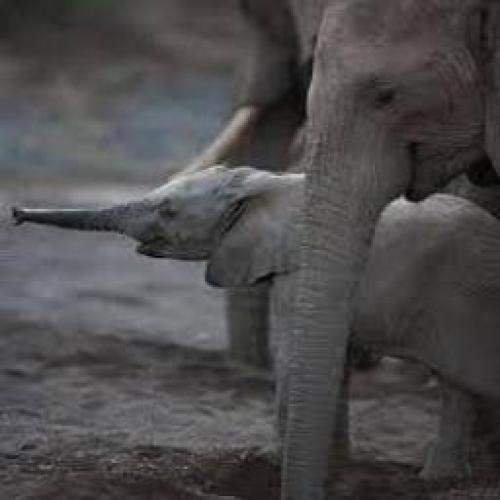african_elephant-endangered: (9, 164, 494, 485), (279, 8, 489, 487), (173, 7, 401, 367)
